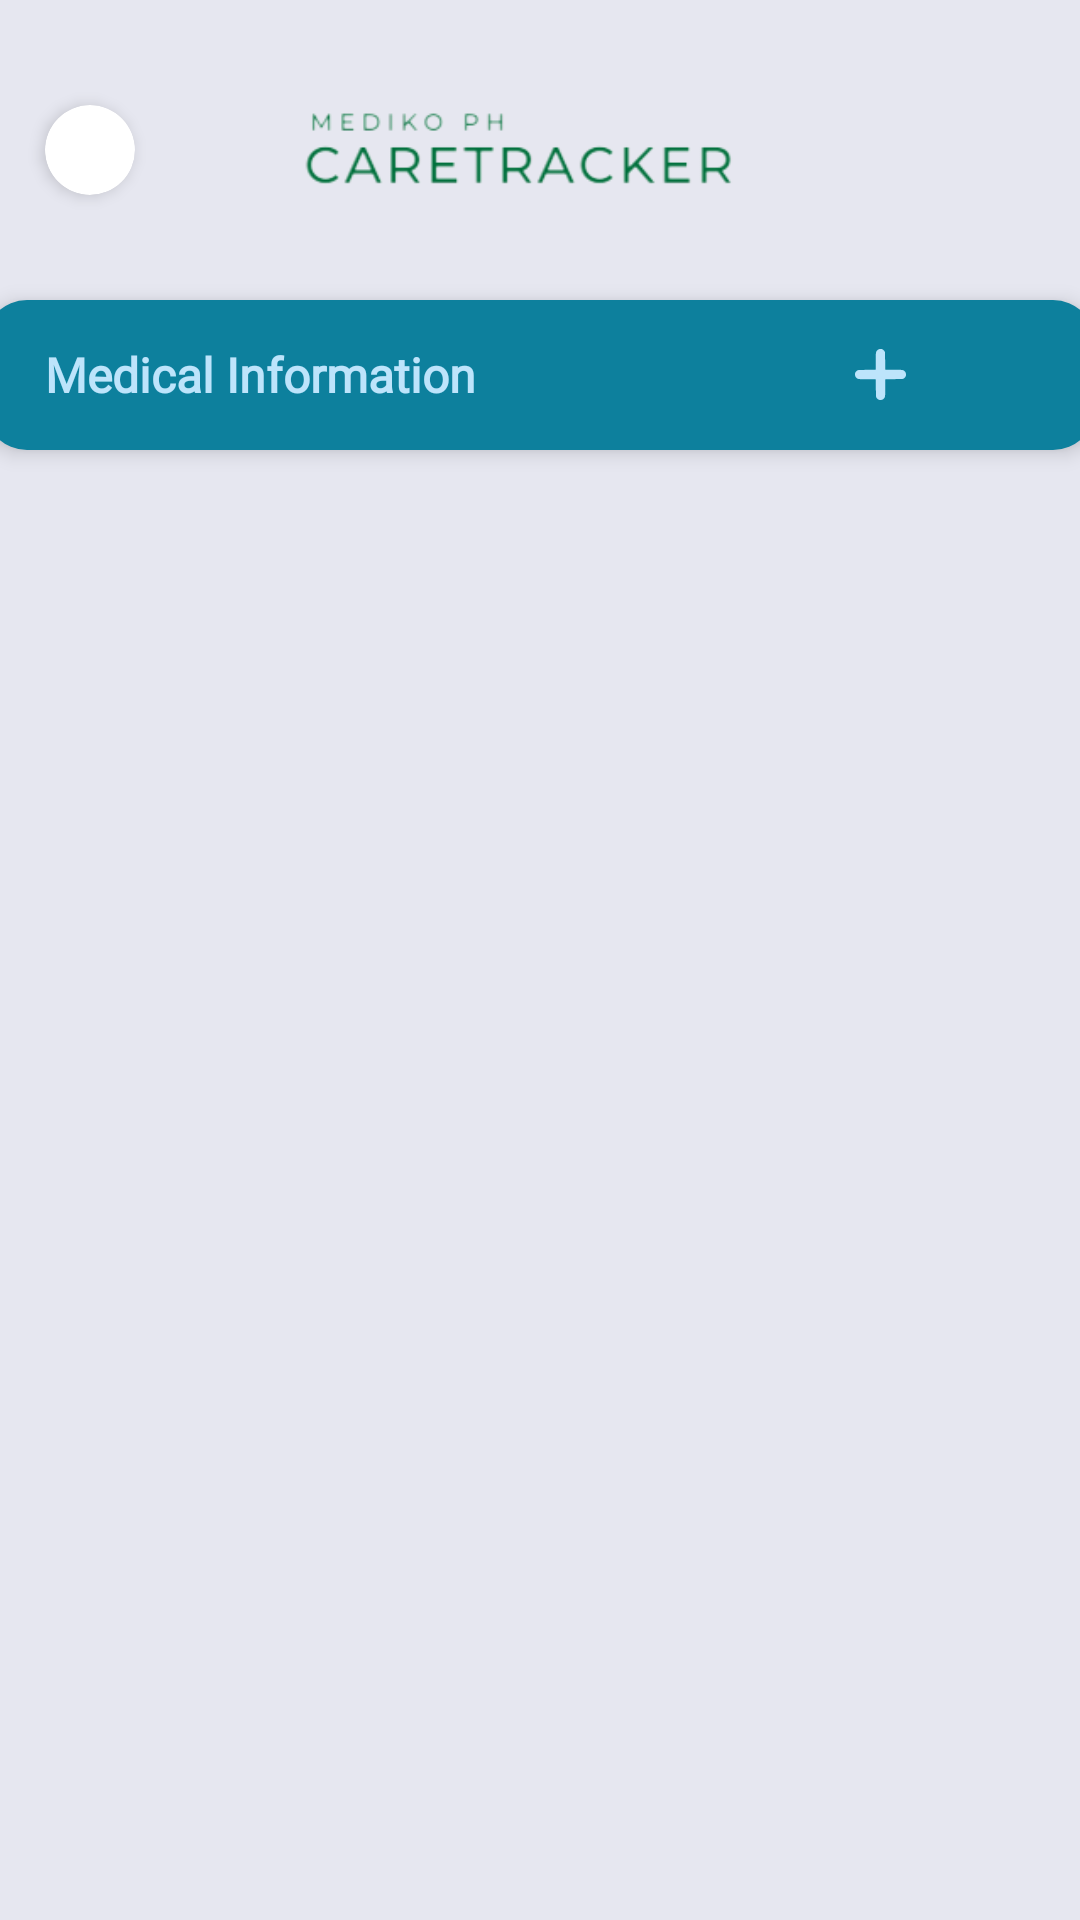

Named icons in this screenshot (1080w x 1920h) and their bounding boxes, (x1, y1, x2, y2):
medinfo add: (855, 349, 906, 400)
